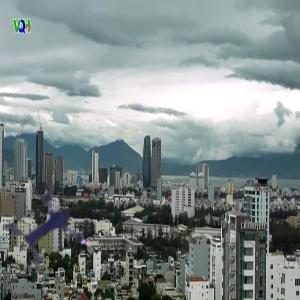drone: (4, 171, 107, 274)
